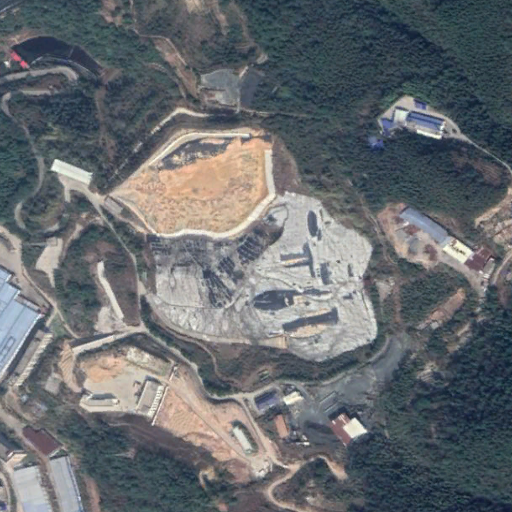lf: (113, 131, 379, 361)
